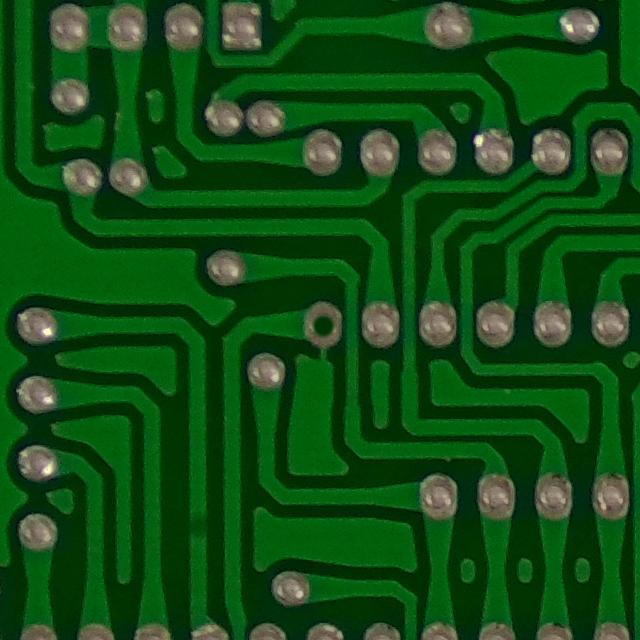missing_hole: (295, 295, 351, 354)
